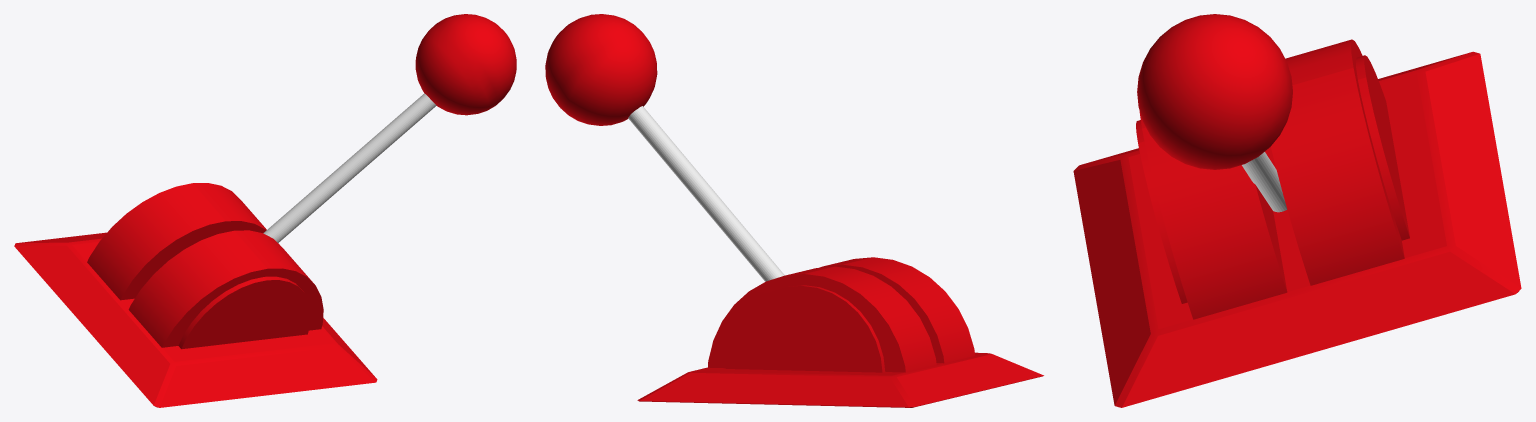
Rendered from DCL_Lever.glb.
3 views of the same model, side by side, from view 1: azimuth 30°, elevation 25°; view 2: azimuth 150°, elevation 25°; view 3: azimuth 270°, elevation 25° (orthographic). The views are drawn at different scales.
Parts seen in each view (by area): view 1: Levber1, Cylinder.002; view 2: Levber1, Cylinder.002; view 3: Levber1, Cylinder.002.
Boxes of the visible parts, x1=… form: Levber1: x1=14, y1=183, x2=377, y2=407; Cylinder.002: x1=263, y1=14, x2=516, y2=242; Levber1: x1=637, y1=257, x2=1043, y2=407; Cylinder.002: x1=545, y1=14, x2=784, y2=281; Levber1: x1=1073, y1=39, x2=1521, y2=407; Cylinder.002: x1=1137, y1=14, x2=1292, y2=212.
Size of what is drawn, in the model's own units: 4.49 by 3.23 by 2.75.
